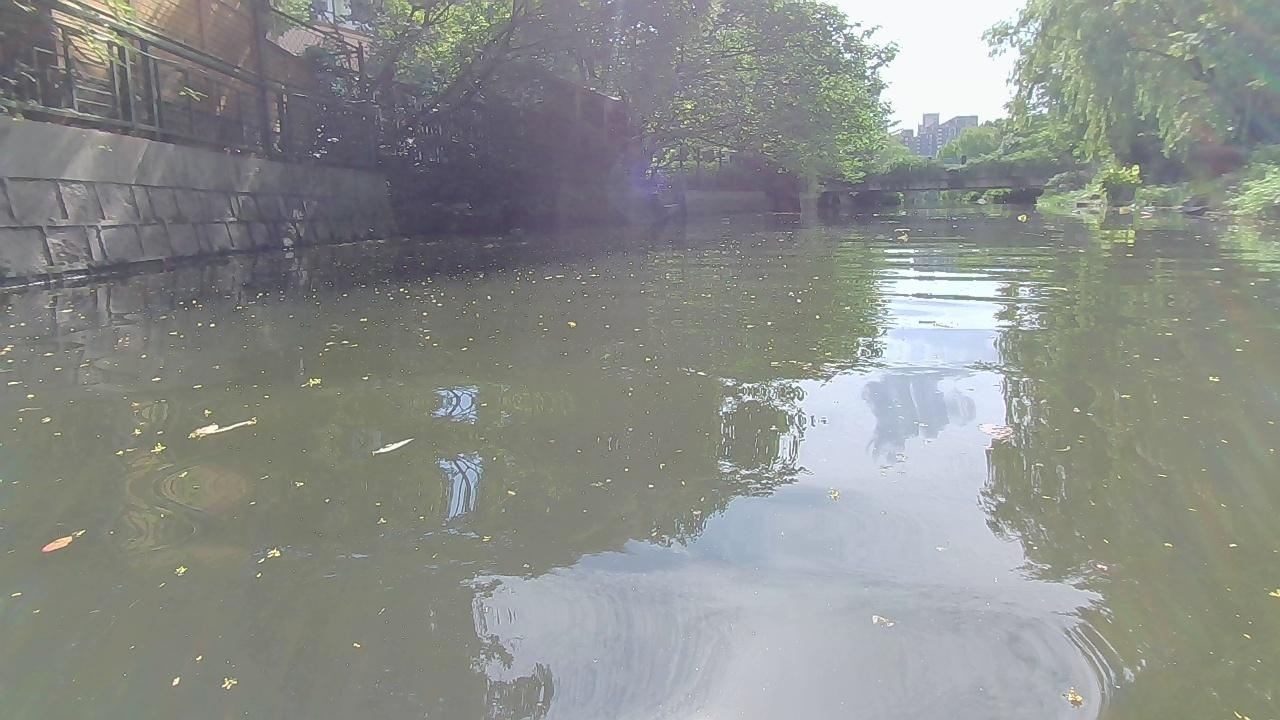bottle: (895, 235, 911, 243), (1136, 211, 1152, 219), (1118, 206, 1134, 214), (1015, 214, 1025, 221)
